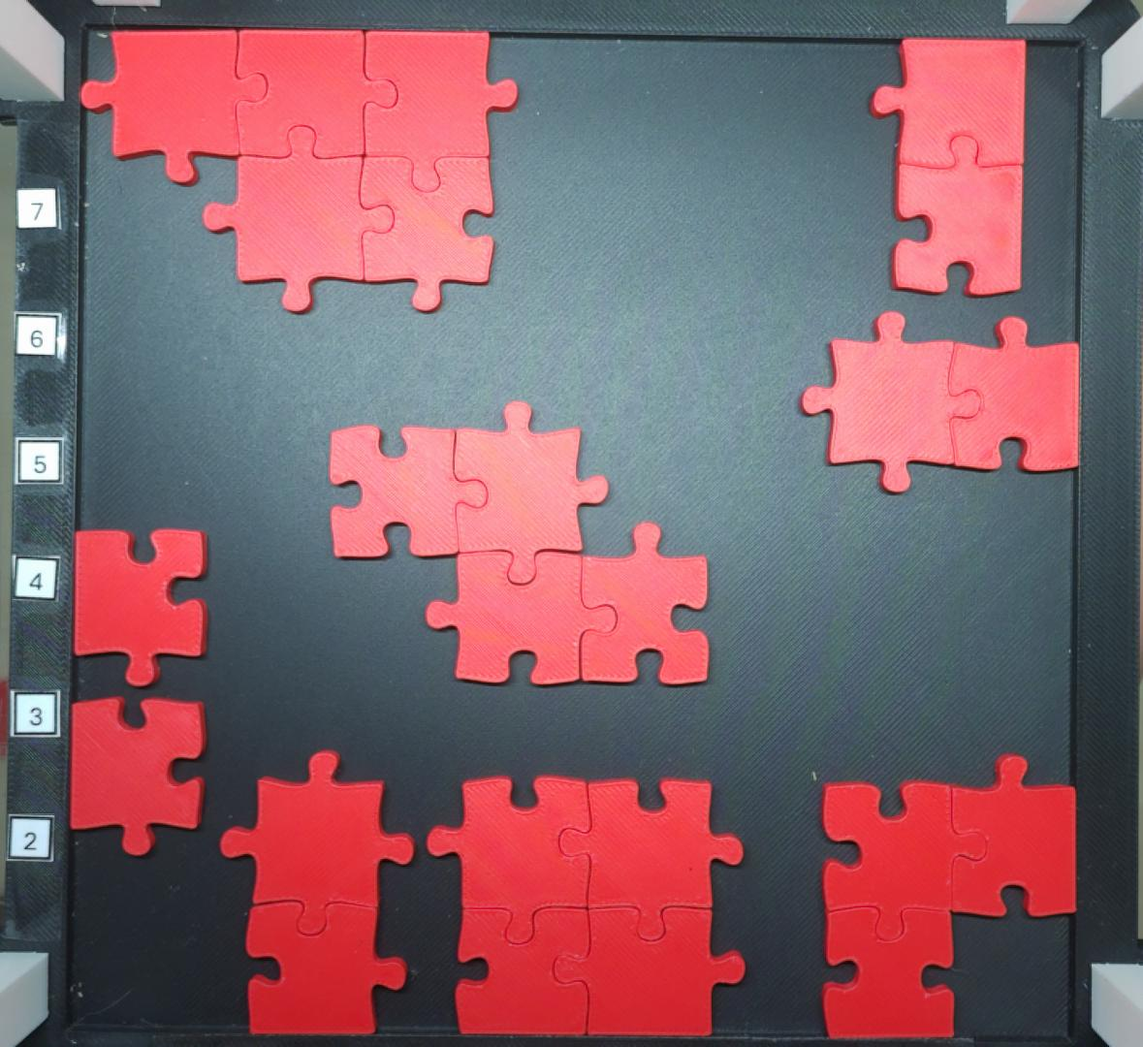p_1: (69, 693, 205, 857), (71, 529, 211, 685)
p_2: (216, 752, 415, 1036), (801, 315, 1085, 499), (871, 36, 1026, 301)
p_3: (821, 753, 1077, 1037)
p_4: (331, 399, 712, 694), (425, 775, 747, 1034)
p_m: (79, 24, 521, 320)
